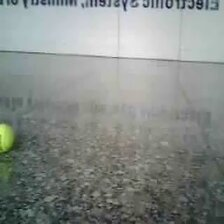tennis: (1, 123, 15, 152)
